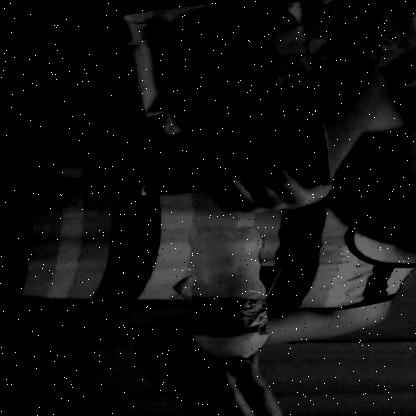Plastic Bottle: (180, 222, 283, 381)
